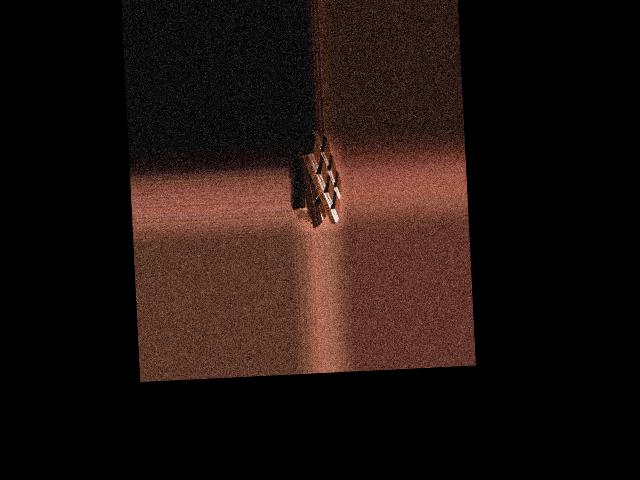chocolate: (295, 132, 342, 228)
